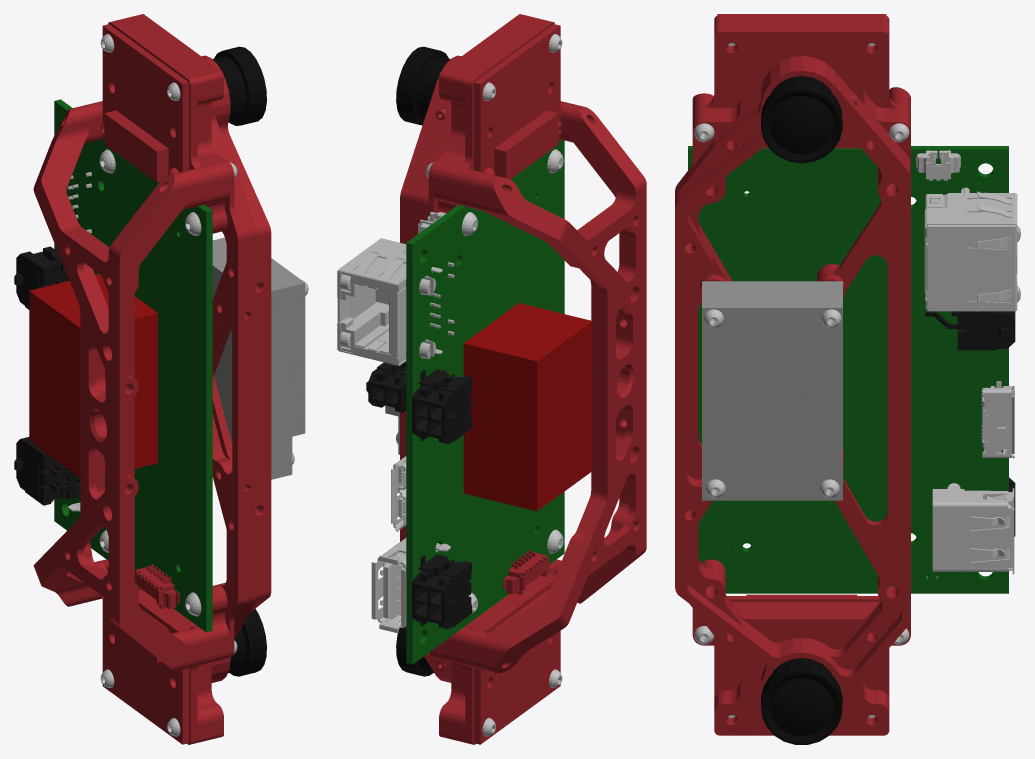
File: vi_sensor.dae
The picture shows the model from 3 angles, left to right: view 1: azimuth 30°, elevation 25°; view 2: azimuth 150°, elevation 25°; view 3: azimuth 270°, elevation 25°; orthographic projection. The views are drawn at different scales.
Parts seen in each view (by area): view 1: node; view 2: node; view 3: node.
Part boxes in pixels (x1,y1,x2,y2): node: [14, 14, 308, 744]; node: [337, 14, 646, 744]; node: [675, 14, 1020, 744].
Size of the model in its own units: 0.0411 by 0.133 by 0.0592.
Materials: 1 (1 with a texture image).
